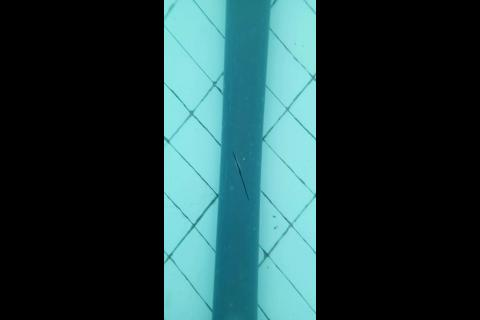keretakan: (231, 149, 250, 201)
